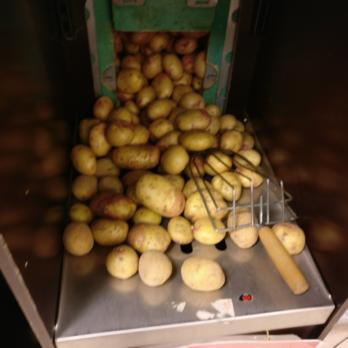Floury potato: (63, 106, 210, 254), (119, 36, 208, 109), (213, 106, 264, 220), (99, 252, 227, 295)
